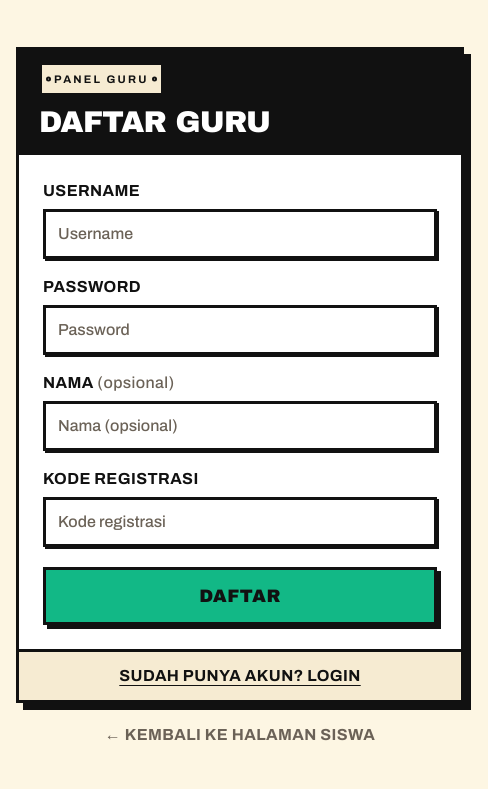
it: Admin Authentication › AdminRegister › displays "Kode registrasi salah" when registration key is invalid (403)
In the field with placeholder "Username": coordinates (240, 234) x1=43 y1=209 x2=437 y2=259, type "newguru"
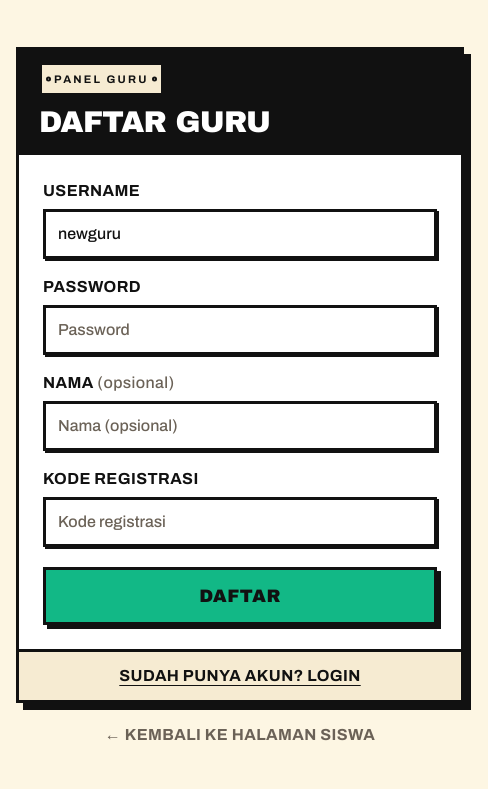
In the password field with placeholder "Password": coordinates (240, 330) x1=43 y1=305 x2=437 y2=355, type "secret456"
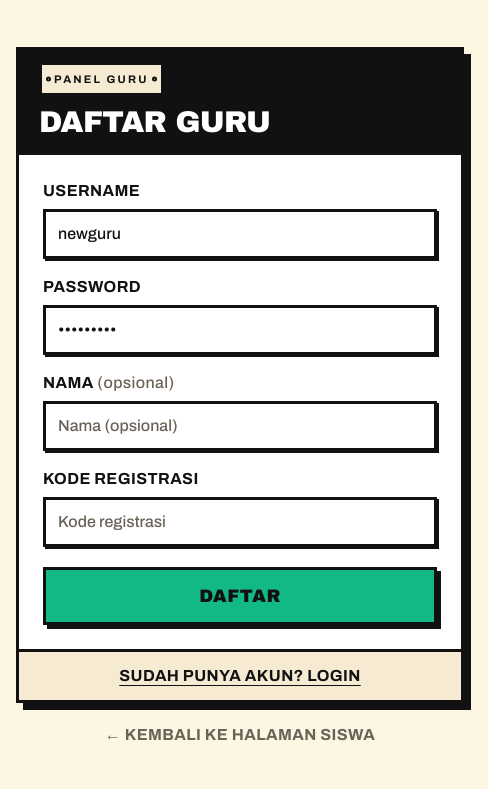
In the field with placeholder "Kode Registrasi": coordinates (240, 522) x1=43 y1=497 x2=437 y2=547, type "WRONG_KEY"
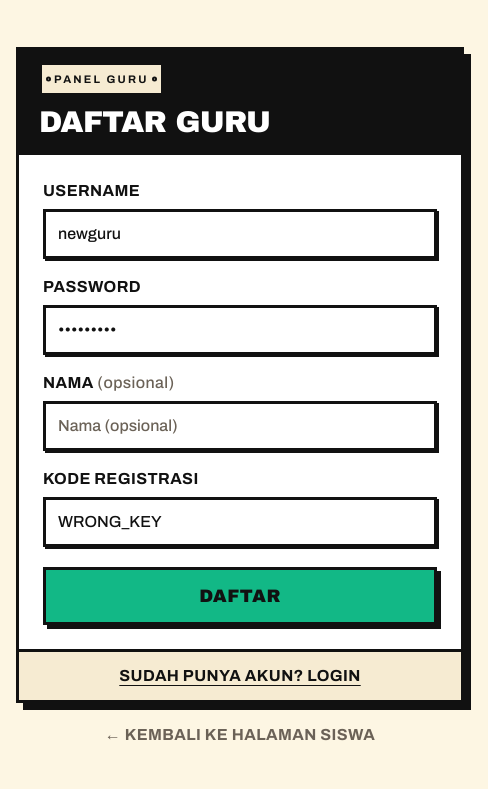
Click the button "Daftar": coordinates (240, 596) x1=43 y1=567 x2=437 y2=625
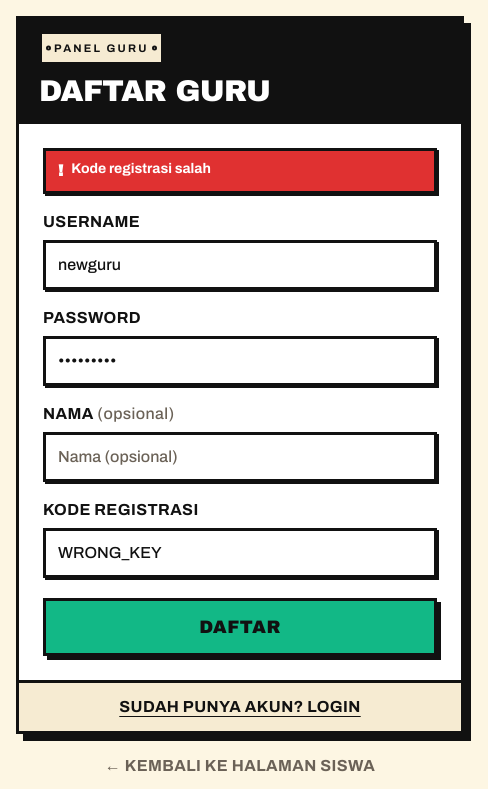
Result: the text "Kode registrasi salah" is shown at x1=71 y1=159 x2=211 y2=179
